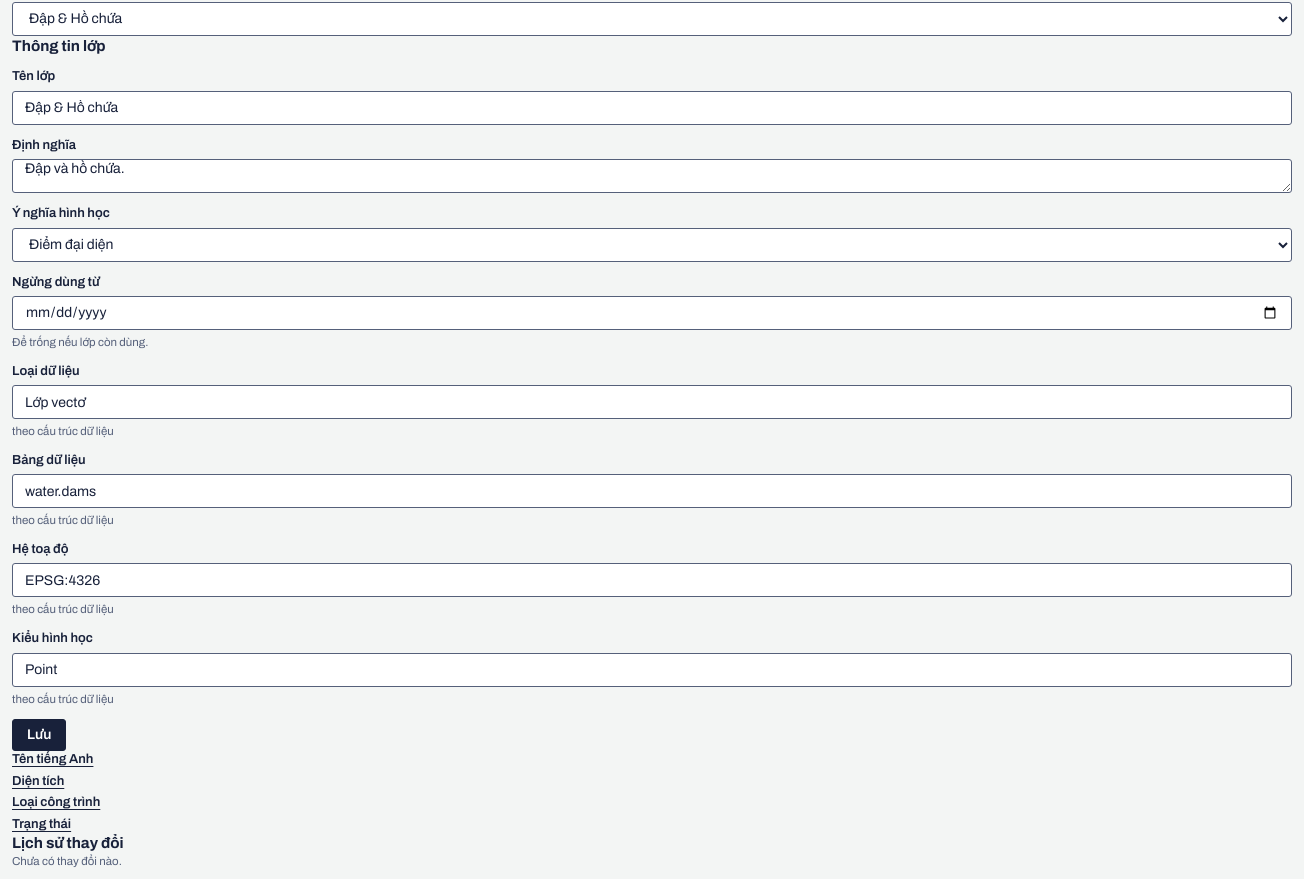
dictionary editor › locked type and source read in Vietnamese
Click the button "Diện tích" at [38, 781], box [12,774,64,788]
(page scrolled)
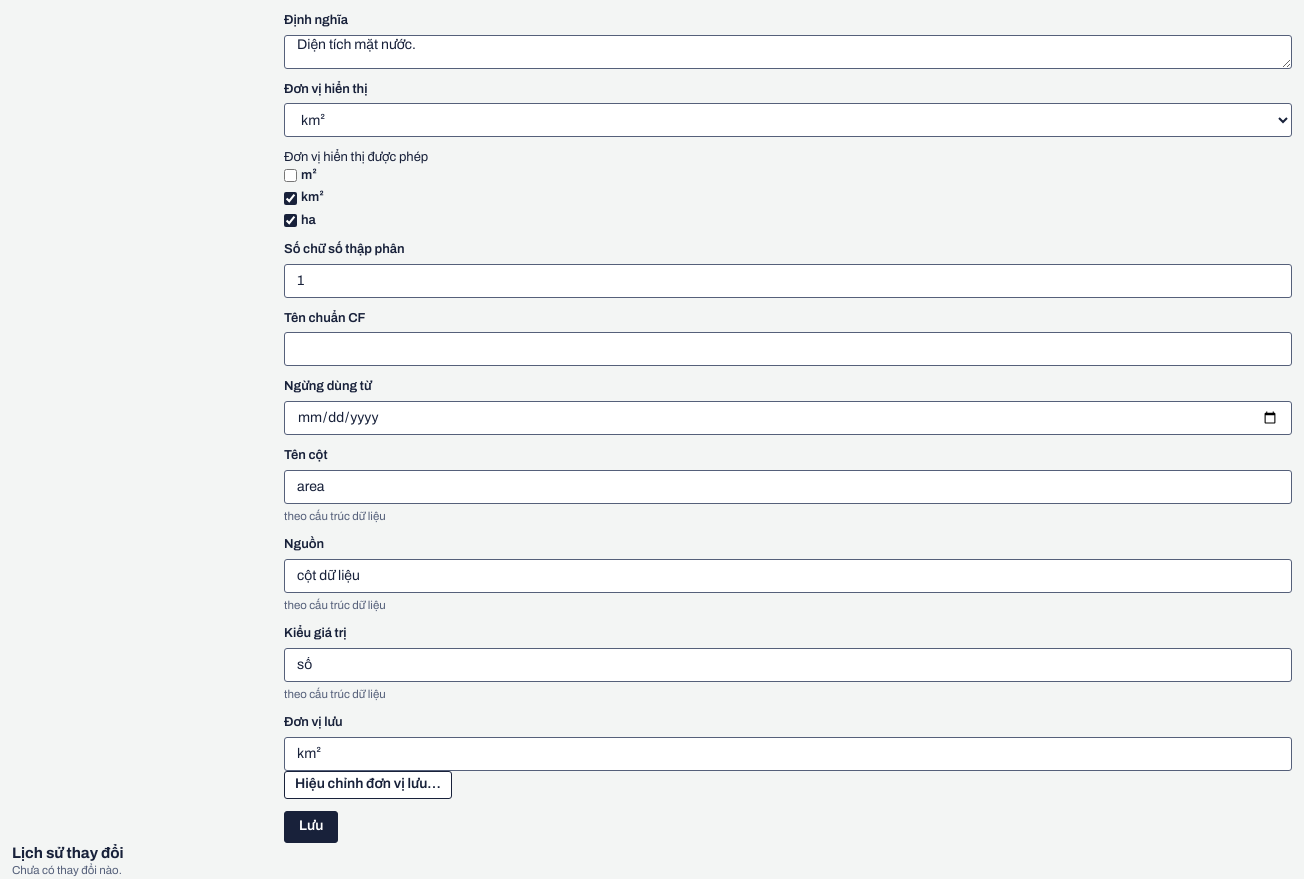
Now the field labelled "Kiểu giá trị" holds "số", box [284,648,1292,682]
Now the field labelled "Nguồn" holds "cột dữ liệu", box [284,559,1292,593]
